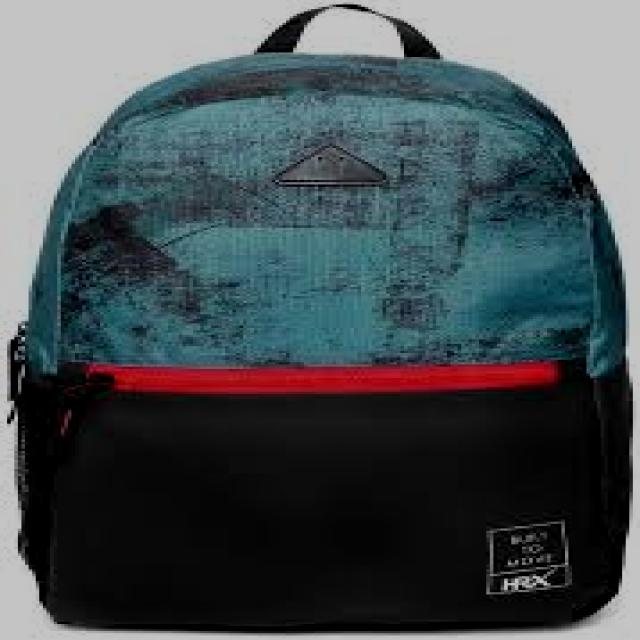backpack: (4, 4, 634, 632)
